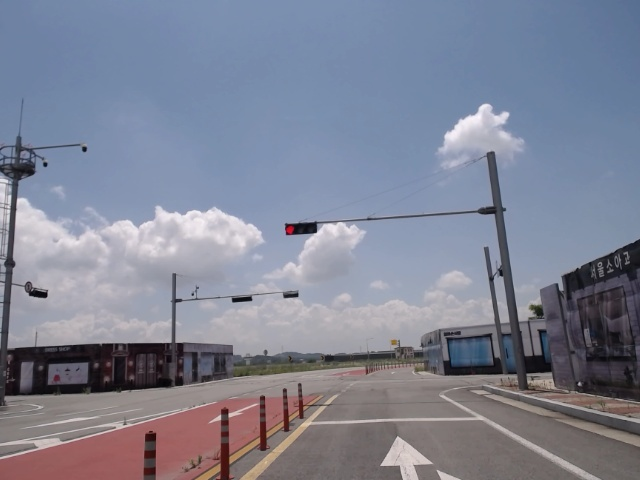red_3: (283, 221, 319, 237)
